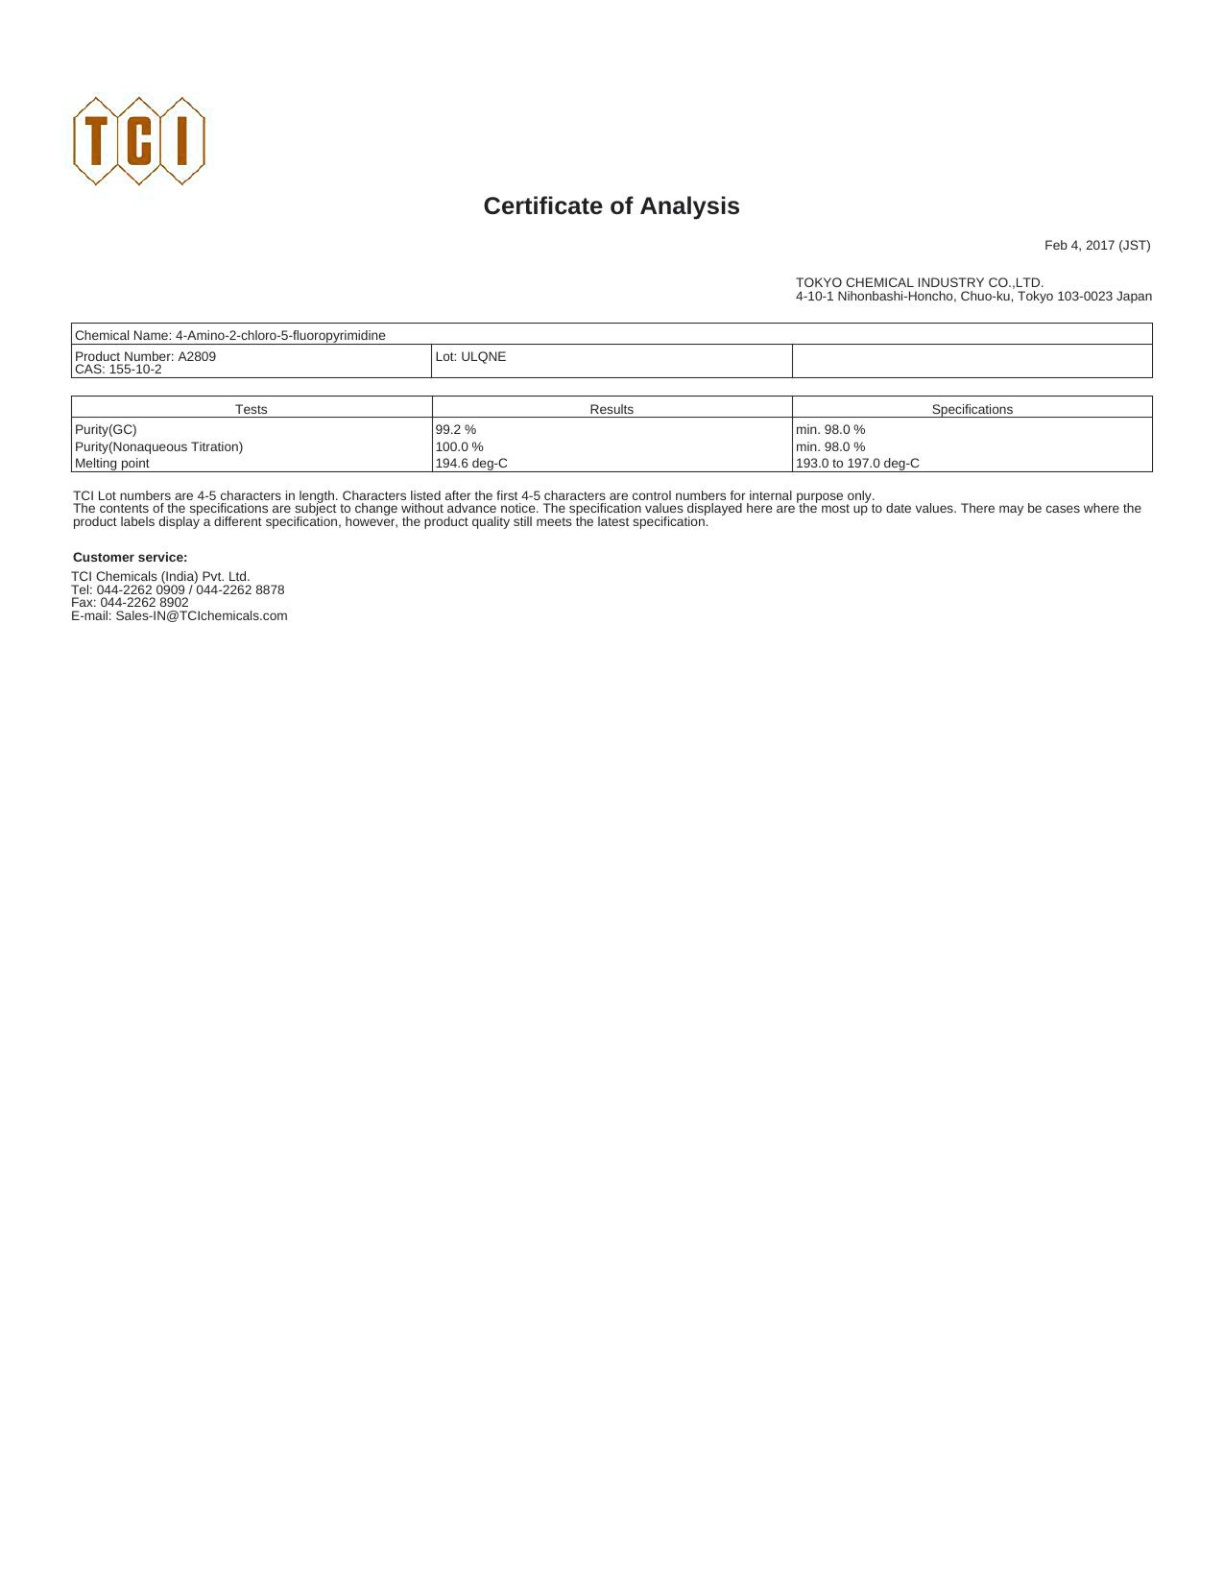full_lined: (69, 393, 1155, 473)
merged_cells: (69, 321, 1155, 379)
